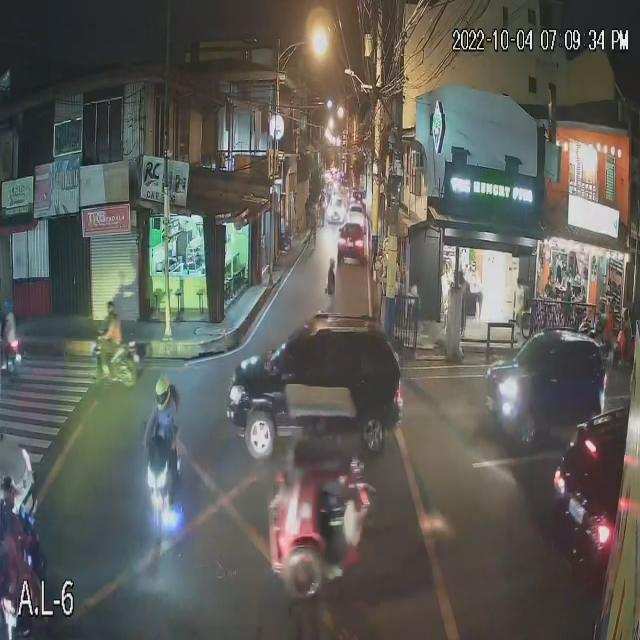helmet: (1, 476, 23, 515), (154, 379, 170, 399)
motorcycle: (0, 510, 50, 625), (144, 451, 185, 539), (93, 336, 141, 389), (0, 337, 24, 375)
rider: (0, 515, 43, 620), (144, 407, 180, 491), (98, 300, 127, 356), (0, 302, 18, 355)
